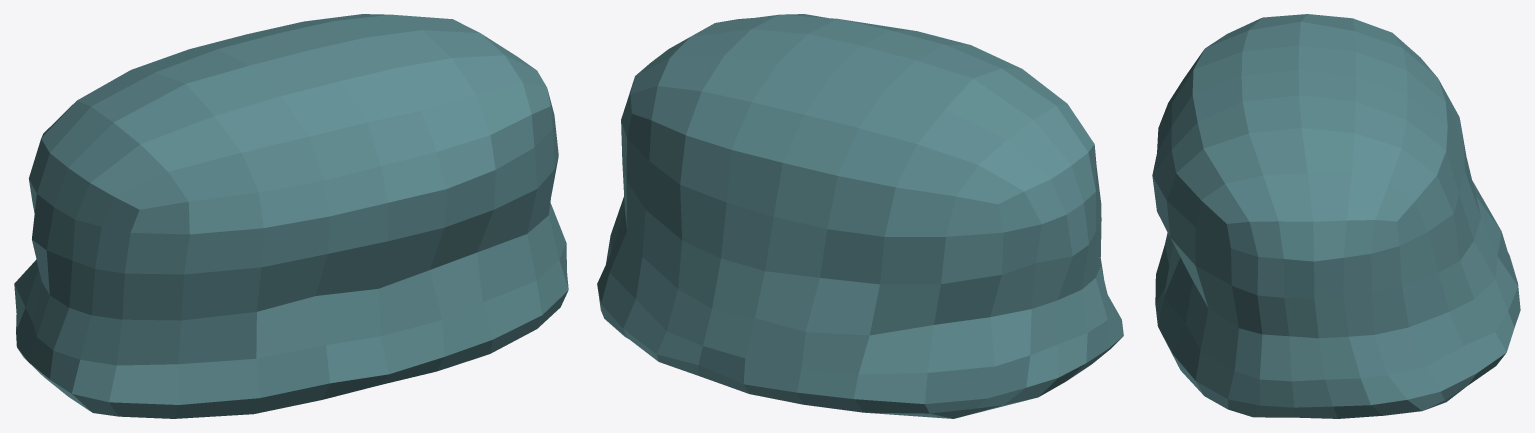
Rendered from Rock_Grass_01_Lod1.fbx.
The picture shows the model from 3 angles, left to right: view 1: azimuth 30°, elevation 25°; view 2: azimuth 150°, elevation 25°; view 3: azimuth 270°, elevation 25°; orthographic projection. The views are drawn at different scales.
Visible parts, largest first — view 1: Rock_Grass_01_Lod1; view 2: Rock_Grass_01_Lod1; view 3: Rock_Grass_01_Lod1.
Part boxes in pixels (box(x1,y1,x2,y2)): Rock_Grass_01_Lod1: box(14, 14, 568, 418); Rock_Grass_01_Lod1: box(597, 14, 1123, 418); Rock_Grass_01_Lod1: box(1152, 14, 1520, 418).
Bounding box in the file's own units: 428 × 240 × 306.
